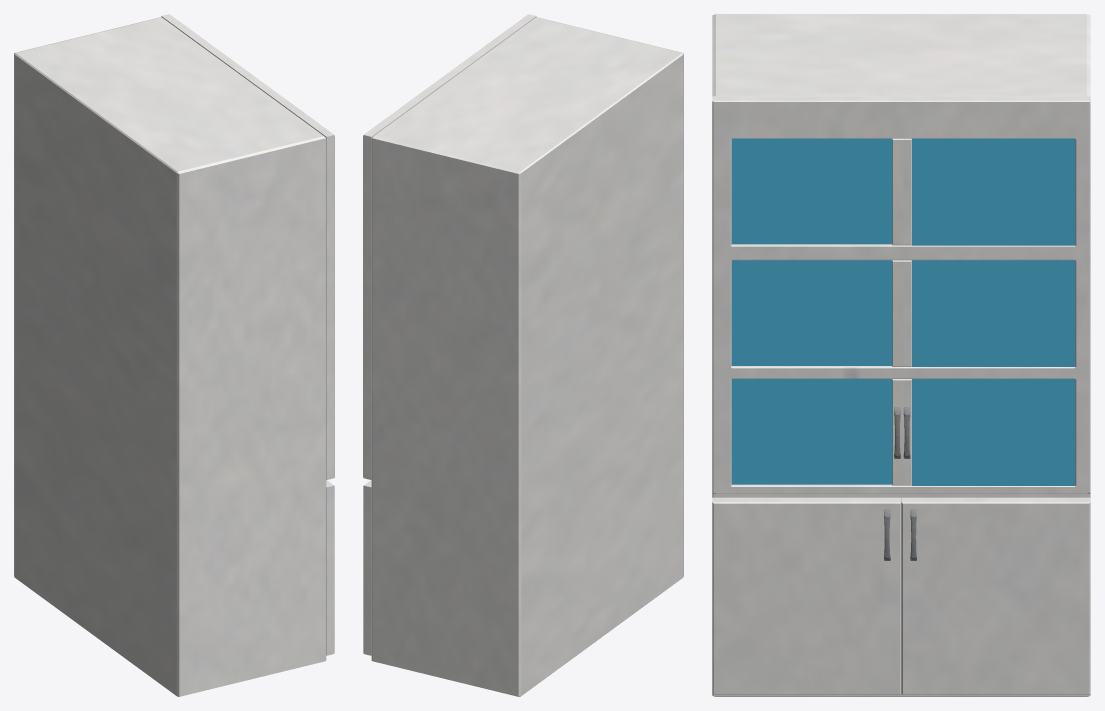
The model's file is Locker.fbx.
3 views of the same model, side by side, from view 1: azimuth 30°, elevation 25°; view 2: azimuth 150°, elevation 25°; view 3: azimuth 270°, elevation 25° (orthographic). The views are drawn at different scales.
Parts seen in each view (by area): view 1: mainbody, Door_L, BottomDoor_L, Door_R; view 2: mainbody, Door_R, BottomDoor_R, Door_L; view 3: Door_L, Door_R, BottomDoor_R, BottomDoor_L, mainbody.
Part boxes in pixels (x1=…): mainbody: x1=14, y1=17, x2=326, y2=696; Door_L: x1=244, y1=74, x2=334, y2=479; BottomDoor_L: x1=326, y1=480, x2=334, y2=655; Door_R: x1=161, y1=14, x2=251, y2=76; mainbody: x1=371, y1=17, x2=683, y2=696; Door_R: x1=363, y1=74, x2=453, y2=479; BottomDoor_R: x1=363, y1=480, x2=371, y2=655; Door_L: x1=446, y1=14, x2=536, y2=76; Door_L: x1=712, y1=96, x2=903, y2=493; Door_R: x1=901, y1=96, x2=1090, y2=493; BottomDoor_R: x1=901, y1=497, x2=1090, y2=694; BottomDoor_L: x1=712, y1=497, x2=901, y2=694; mainbody: x1=712, y1=14, x2=1090, y2=696.
Size of the model in its own units: 453 by 1398 by 797.
3 materials, 2 textured.
